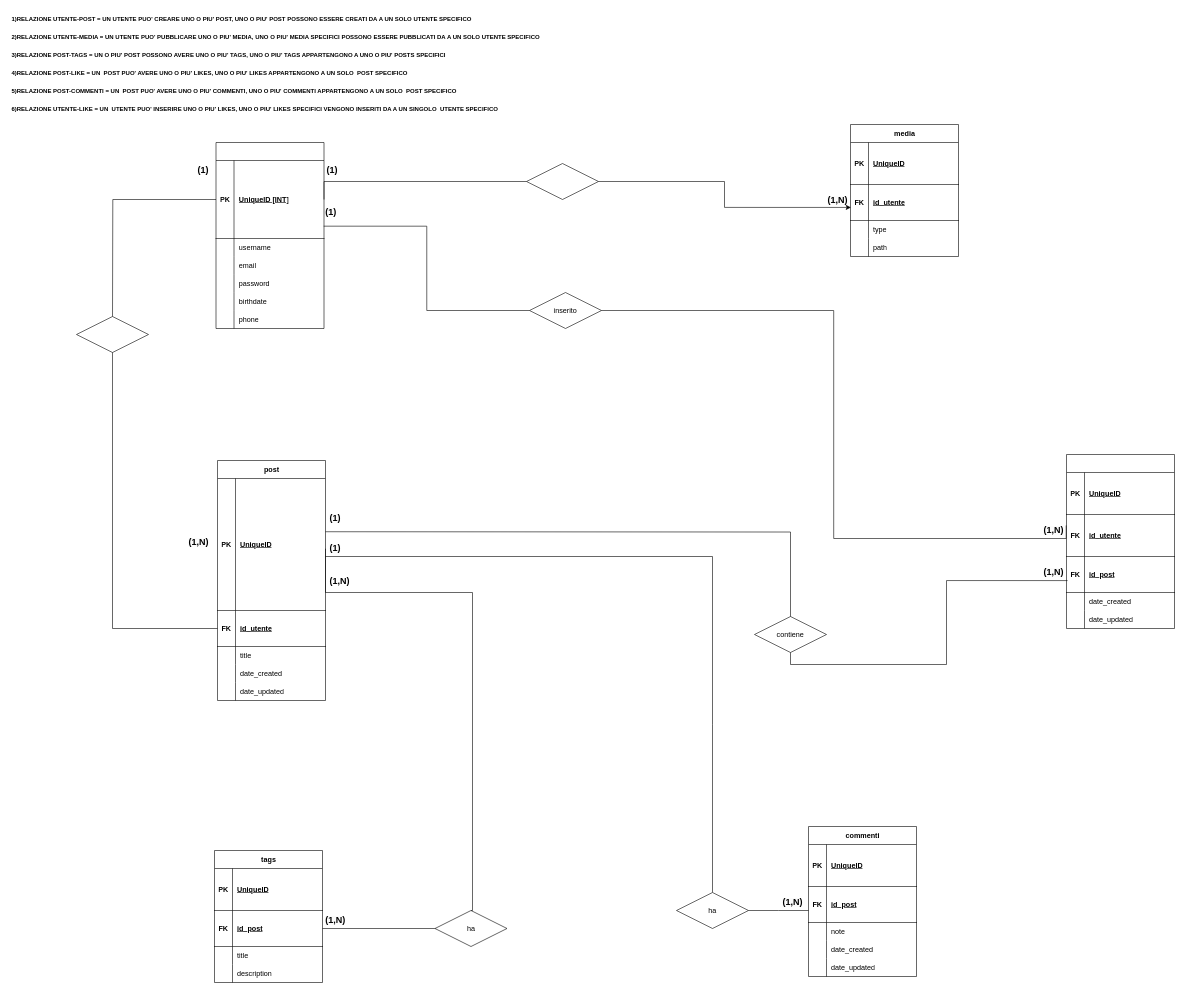
The diagram is 1185 pixels wide and 993 high, and some of its shapes have lost their labels. Each missing label, with the box of its shape:
creato: (76, 316, 148, 352)
like: (1066, 454, 1174, 628)
pubblicato: (526, 163, 598, 200)
utente: (215, 142, 324, 328)
